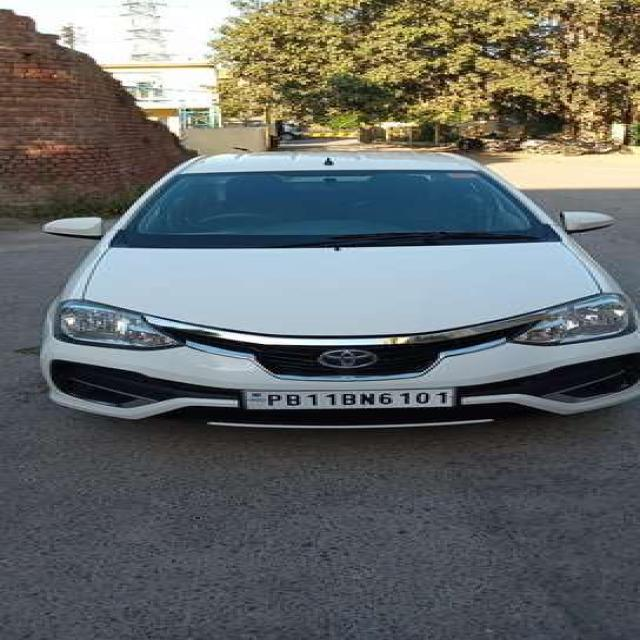licenseplate: (235, 386, 459, 411)
